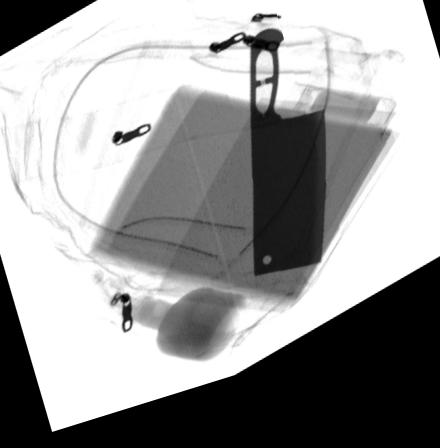Knife: (249, 43, 327, 292)
